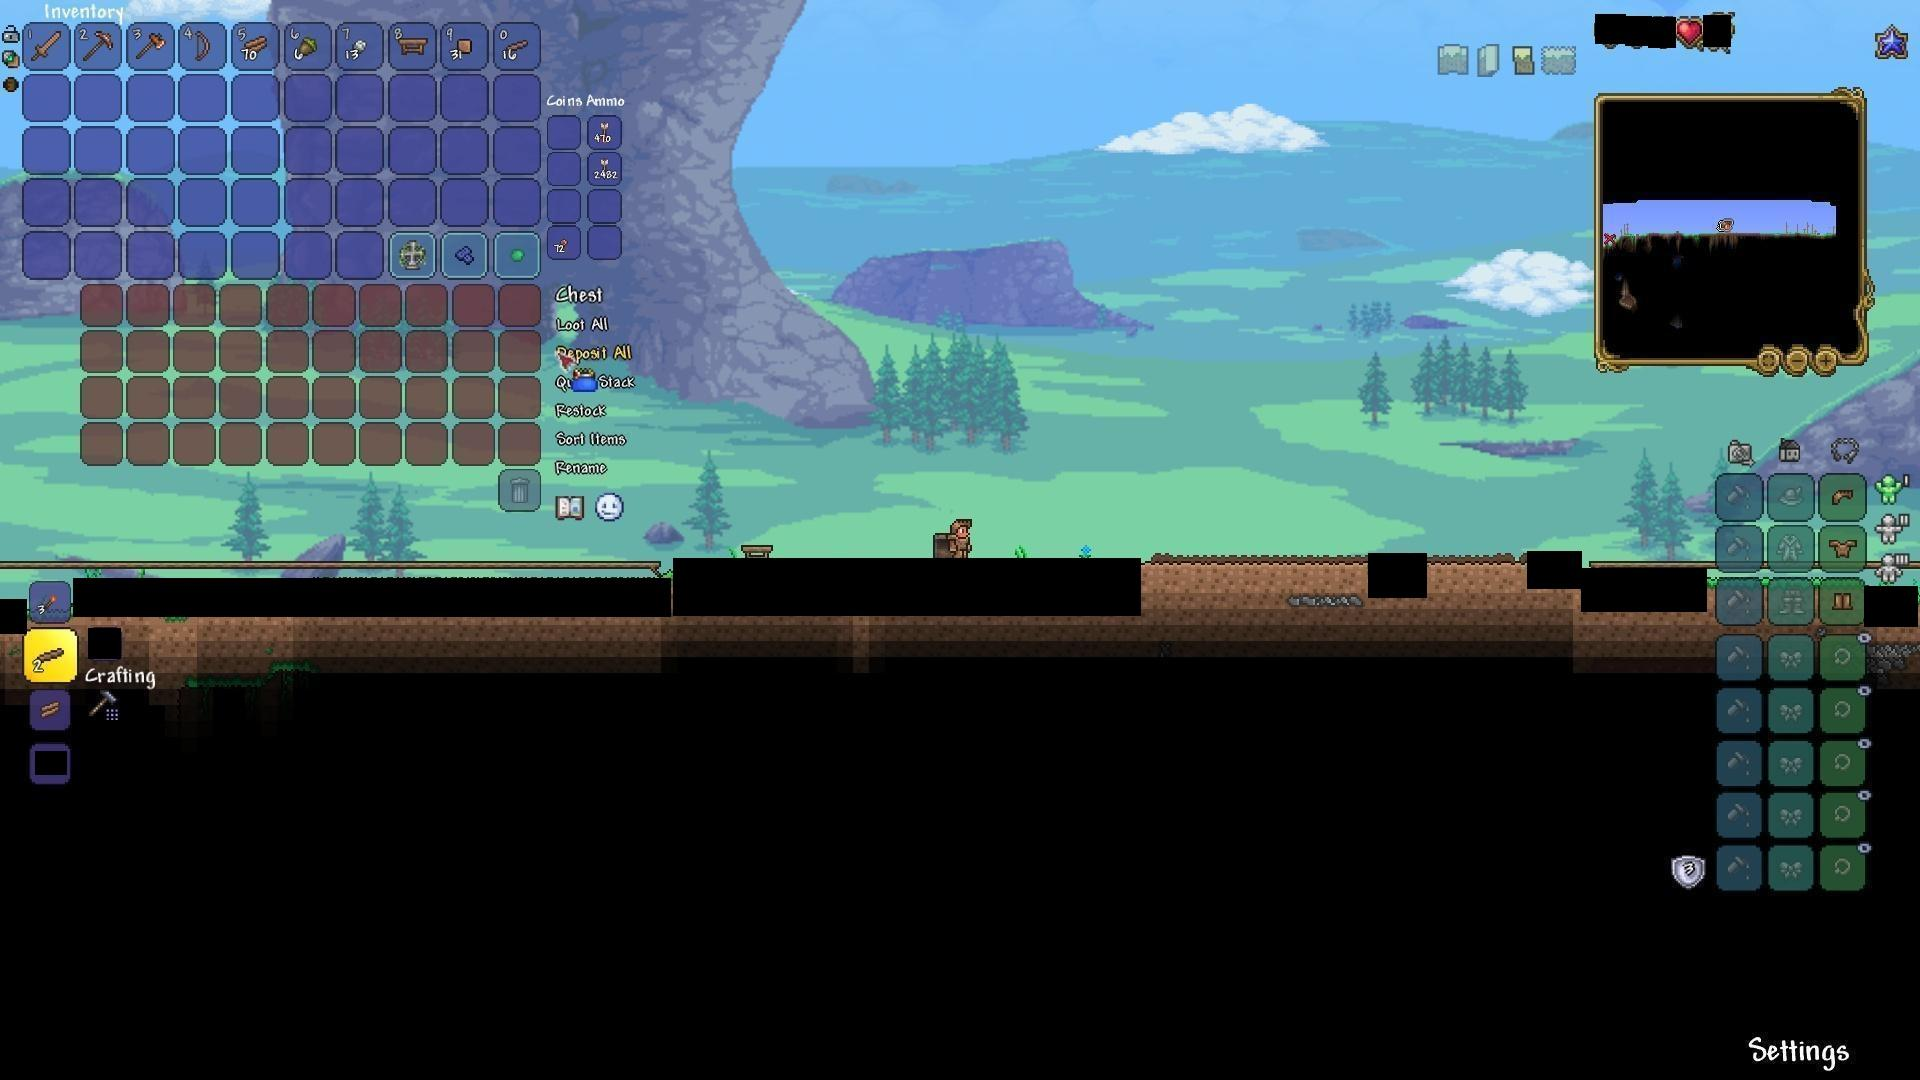breastplate: (1828, 537, 1858, 556)
heart: (1676, 16, 1704, 47)
helmet: (1826, 483, 1858, 512)
legs: (1830, 587, 1857, 616)
wood: (37, 695, 66, 721), (243, 34, 270, 59)
workbench: (574, 372, 615, 396), (394, 32, 431, 57), (740, 541, 777, 564)
